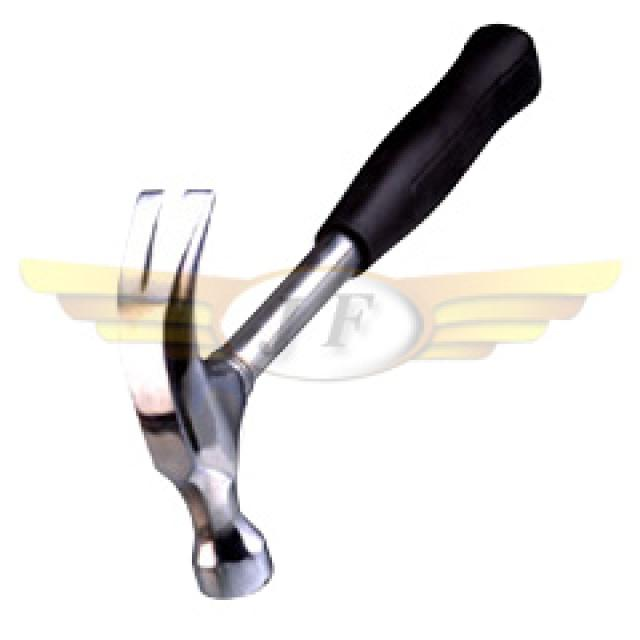hammer: (19, 8, 538, 628)
